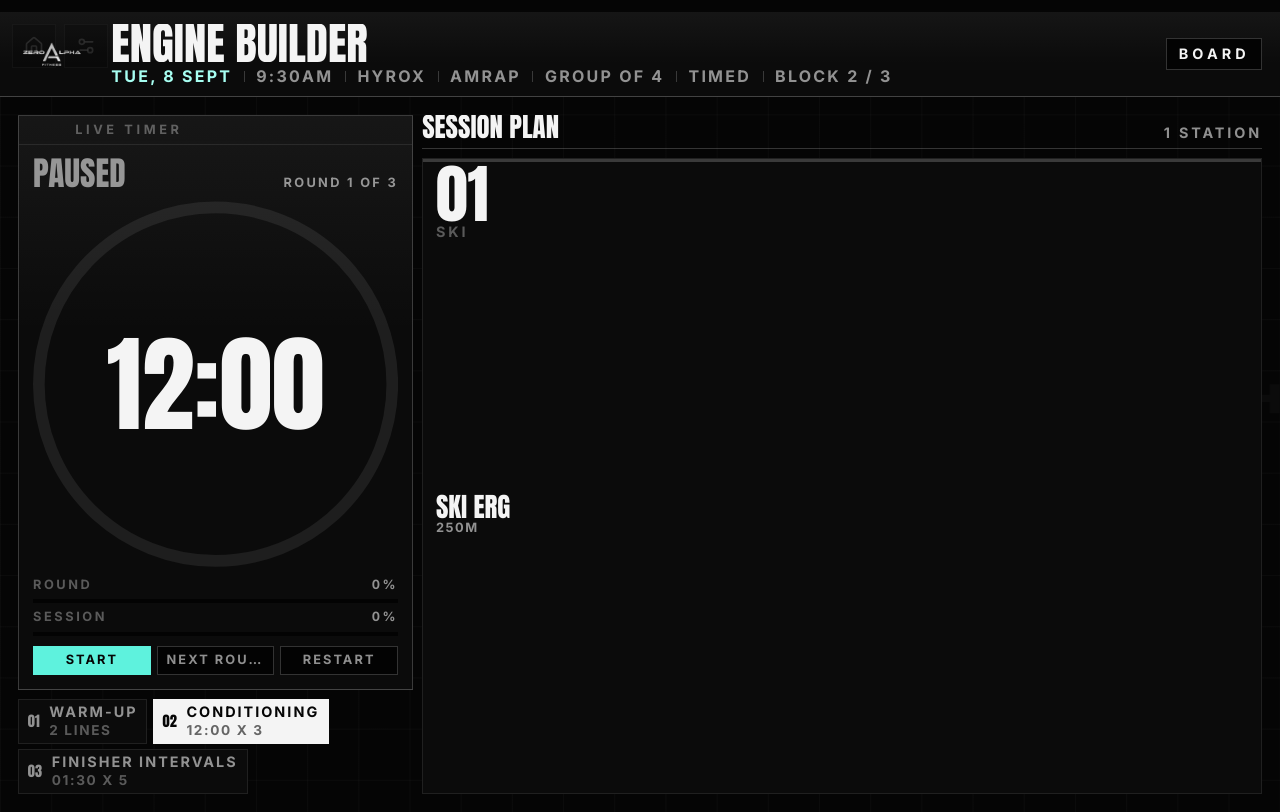
Test case: WODDisplay board › shows text blocks as their own board page
Click the button "01 Warm-up 2 lines".
click(83, 722)  # box top-left (18, 699), bottom-right (148, 744)
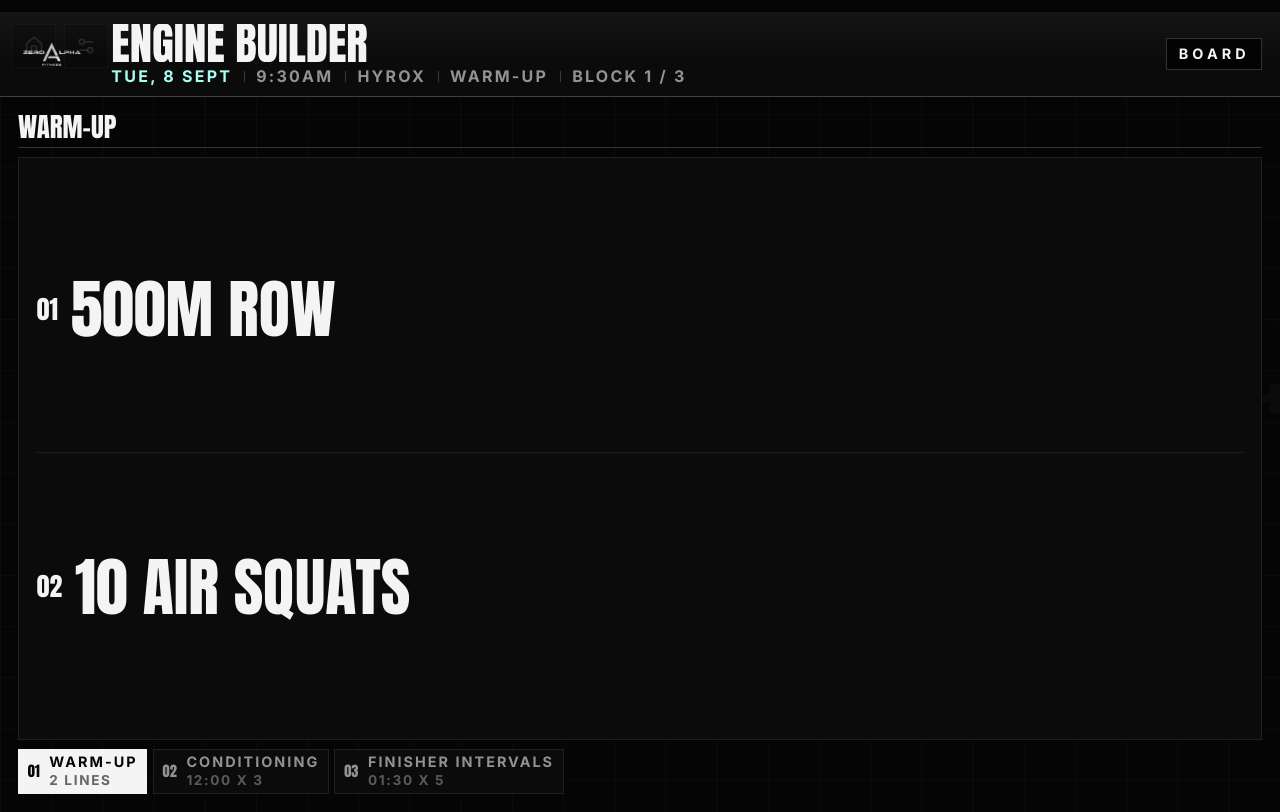
Now the text "500m row" is shown, box top-left (71, 276), bottom-right (336, 344)
